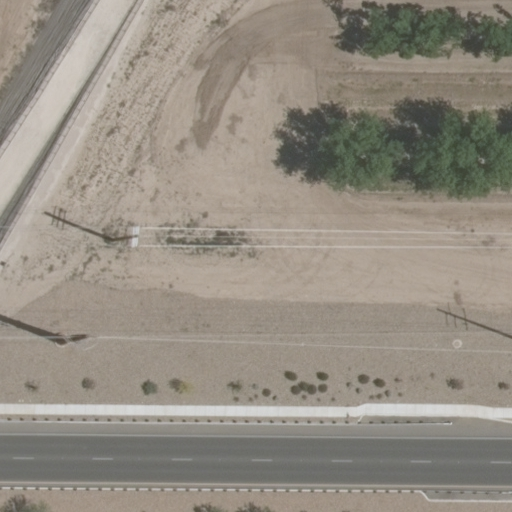DT: (99, 220, 145, 253), (45, 328, 97, 355)
